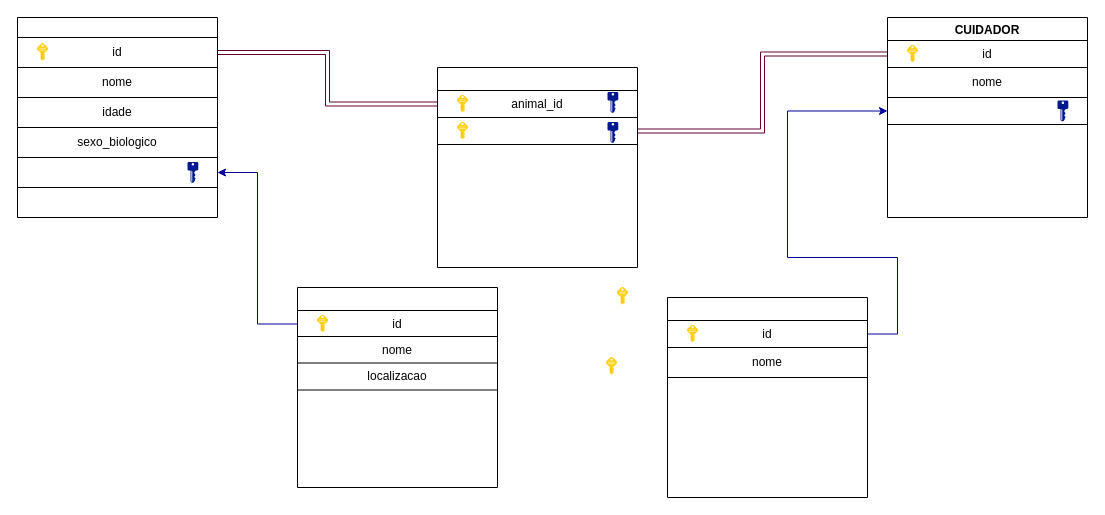
This 1105x515 diagram has some shape labels left out. The shapes that lost their labels are listed below. From the top down, each one's box as (x1, y1, x2, y2) in pixels, then its label:
(16, 16, 218, 218): ANIMAL
(436, 116, 638, 144): cuidador_id
(886, 96, 1088, 124): gerente_id
(16, 156, 218, 188): especie_id
(436, 66, 638, 268): ANIMAL_CUIDADOR
(296, 286, 498, 488): ESPECIE
(666, 296, 868, 498): GERENTE
